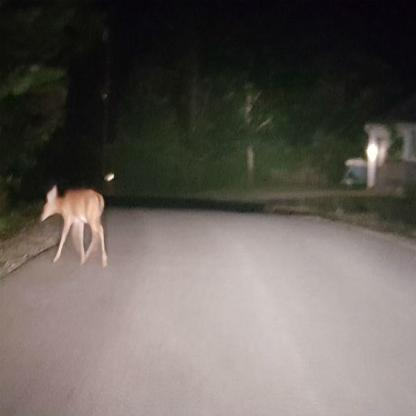Deer: (38, 184, 109, 270)
